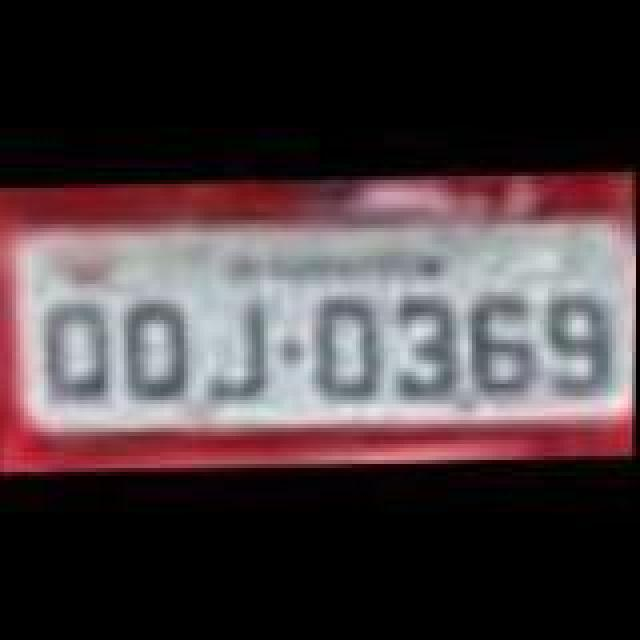3: (384, 284, 456, 400)
6: (460, 288, 540, 404)
9: (532, 278, 612, 402)
J: (196, 290, 276, 402)
O: (36, 294, 116, 402), (306, 290, 382, 402), (116, 296, 196, 400)
